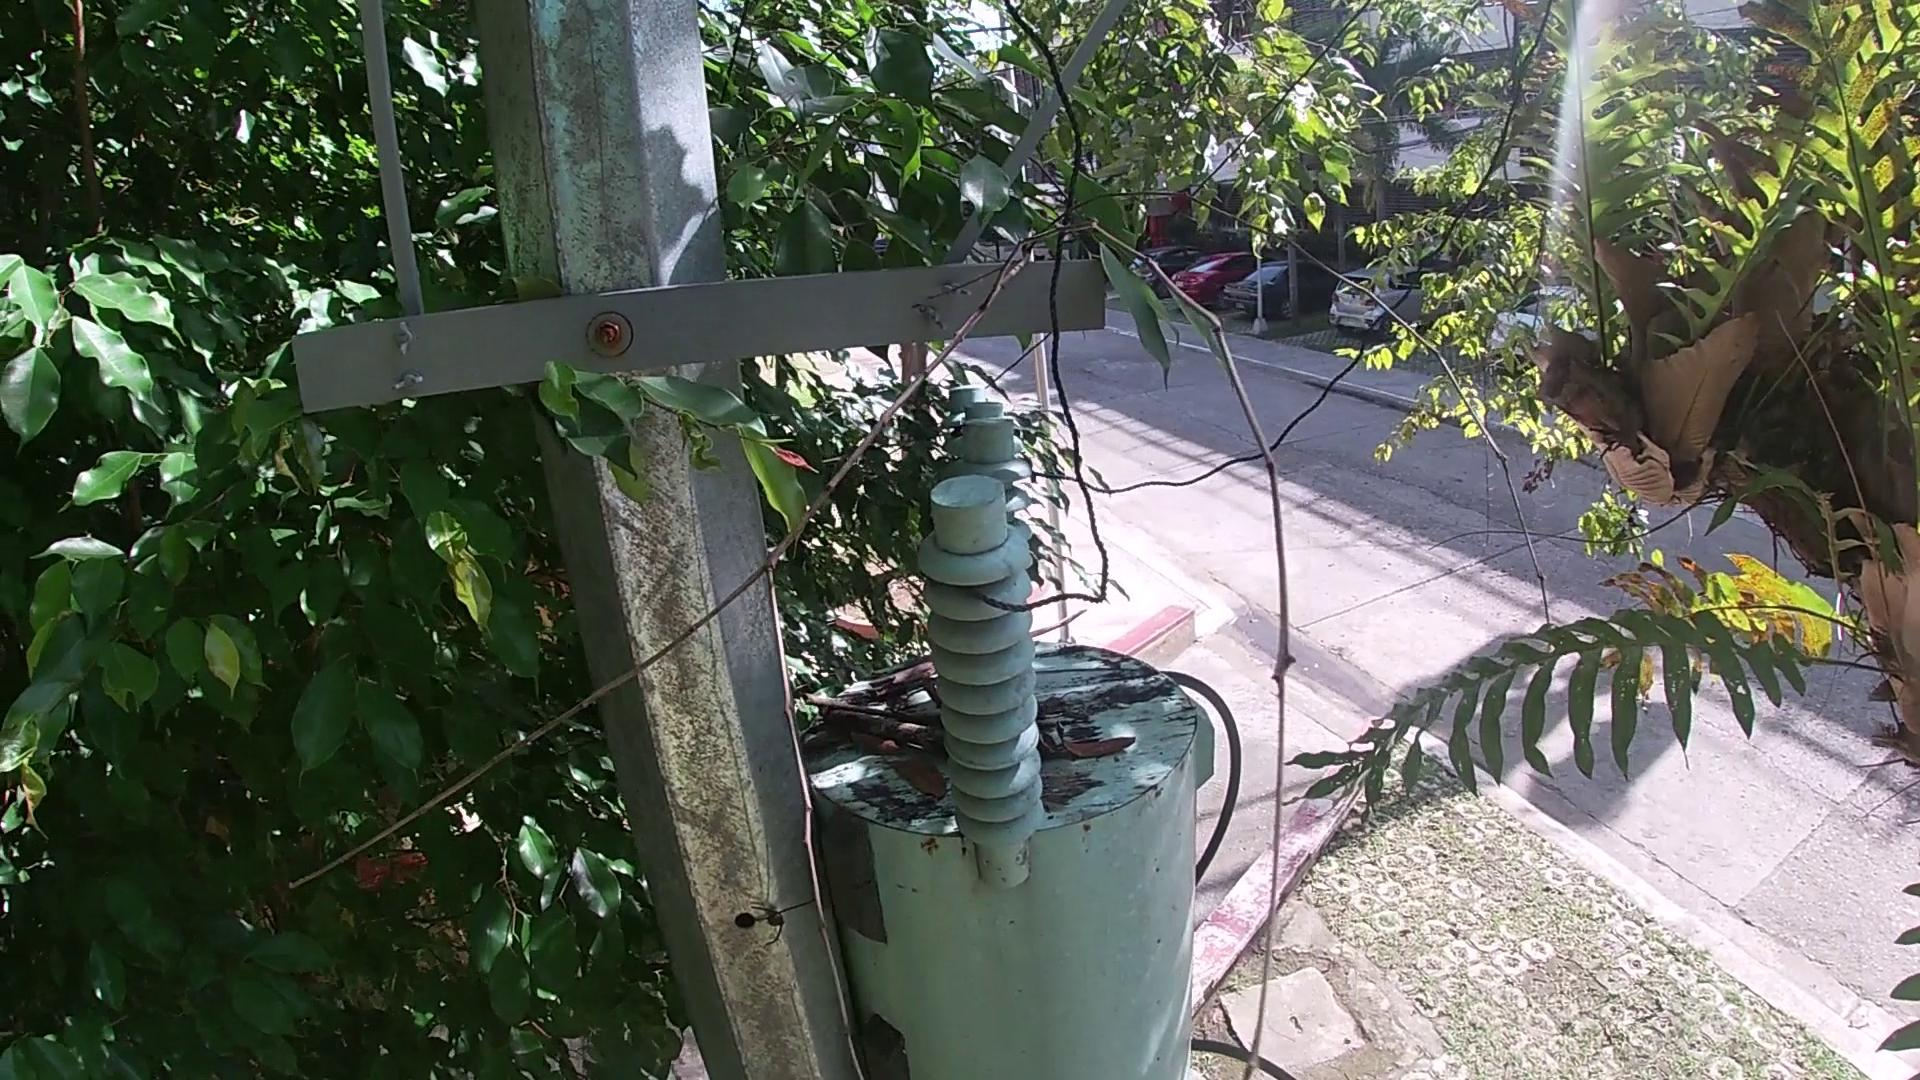leaf: (884, 750, 952, 803), (1054, 724, 1142, 761), (849, 724, 903, 760)
tree branch: (274, 171, 1575, 1079), (800, 696, 952, 758), (866, 657, 939, 708)
